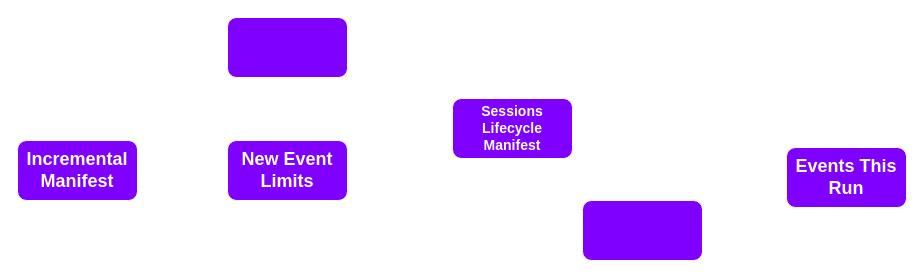
Some shapes in this 924 by 278 pixel diagram are drawn without their labels. Here are the shapes that lost their labels. From the top down, the box of each, then its label:
(226, 16, 348, 78): Quarantined Sessions
(582, 200, 702, 260): Sessions This Run
